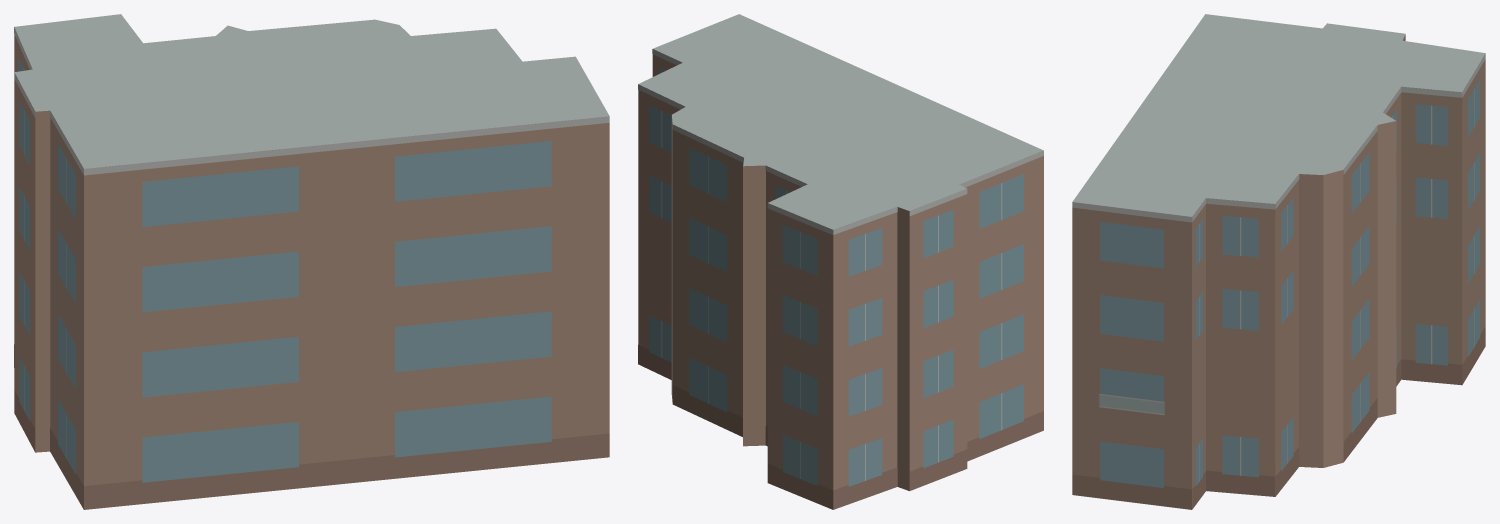
Rendered from survey-upis-32992309.glb.
3 views of the same model, side by side, from view 1: azimuth 30°, elevation 25°; view 2: azimuth 150°, elevation 25°; view 3: azimuth 270°, elevation 25° (orthographic). The views are drawn at different scales.
Visible parts, largest first — view 1: survey-upis-32992309.tmp; view 2: survey-upis-32992309.tmp; view 3: survey-upis-32992309.tmp.
Part boxes in pixels (bbox=[...]): survey-upis-32992309.tmp: bbox=[14, 14, 609, 509]; survey-upis-32992309.tmp: bbox=[638, 14, 1043, 509]; survey-upis-32992309.tmp: bbox=[1072, 14, 1485, 509].
Bounding box in the file's own units: 19.03 × 12.8 × 16.38.
